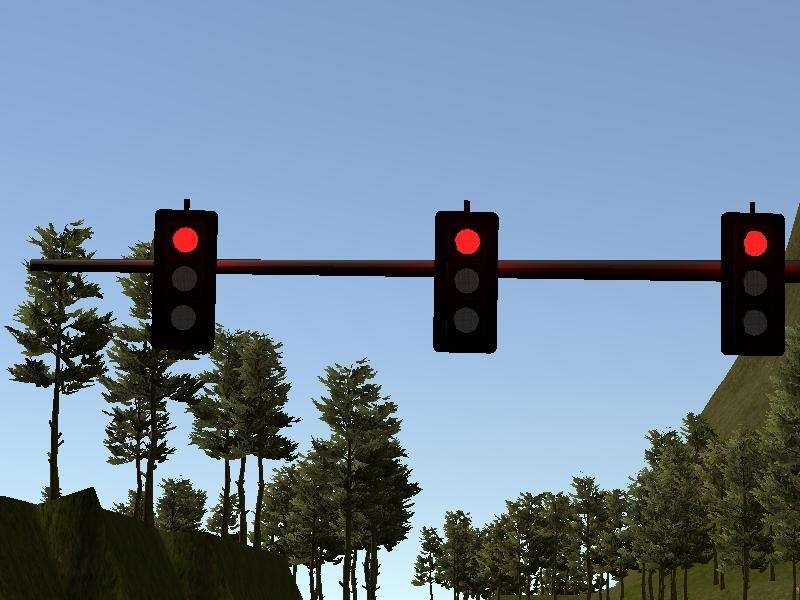Red: (718, 209, 789, 359), (430, 207, 500, 357), (150, 206, 220, 354)
